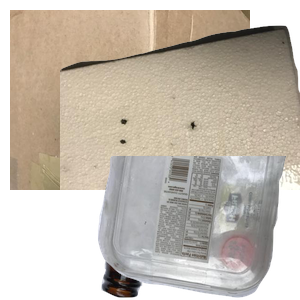cardboard: (10, 10, 250, 190)
glass: (99, 140, 300, 300)
plastic: (95, 156, 300, 300)
trash: (60, 23, 300, 203)
